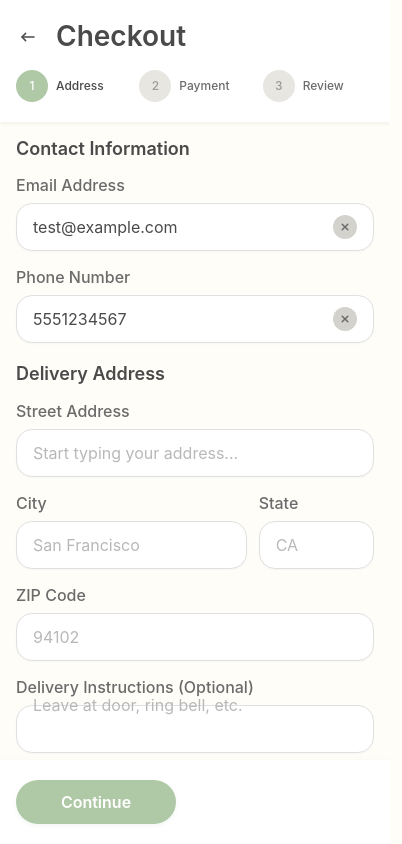
Scenario: CheckoutScreen › should show validation errors for empty required fields
Clear the pre-populated fields
Clear the field with test id "email-input": (179, 227) x1=33 y1=215 x2=325 y2=239
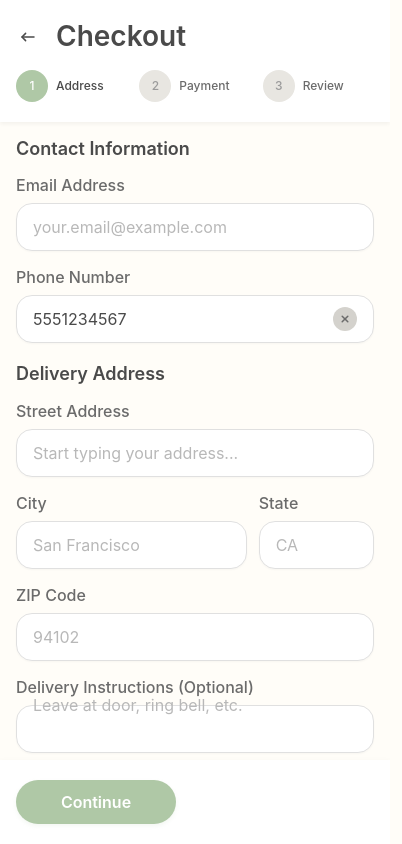
Clear the field with test id "phone-input": (179, 319) x1=33 y1=307 x2=325 y2=331
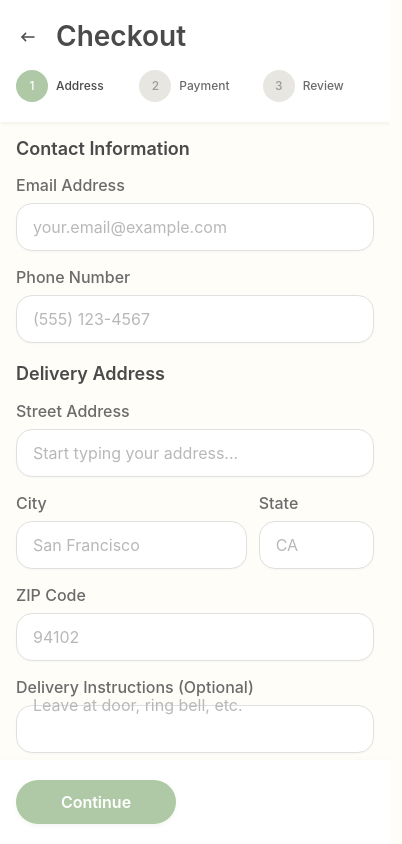
Try to continue without filling required fields
Click the button "Continue": (96, 802) x1=16 y1=780 x2=176 y2=824
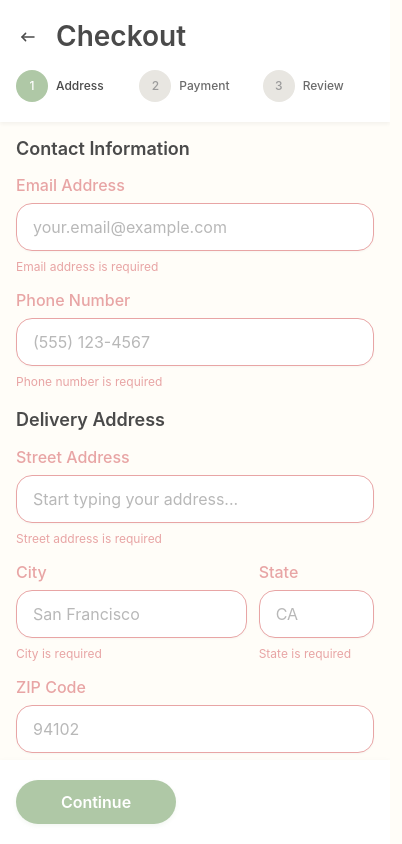
Now the text "Email address is required" is shown, box x1=16 y1=259 x2=158 y2=274
Now the text "Phone number is required" is shown, box x1=16 y1=374 x2=162 y2=389
Now the text "Street address is required" is shown, box x1=16 y1=531 x2=162 y2=546
